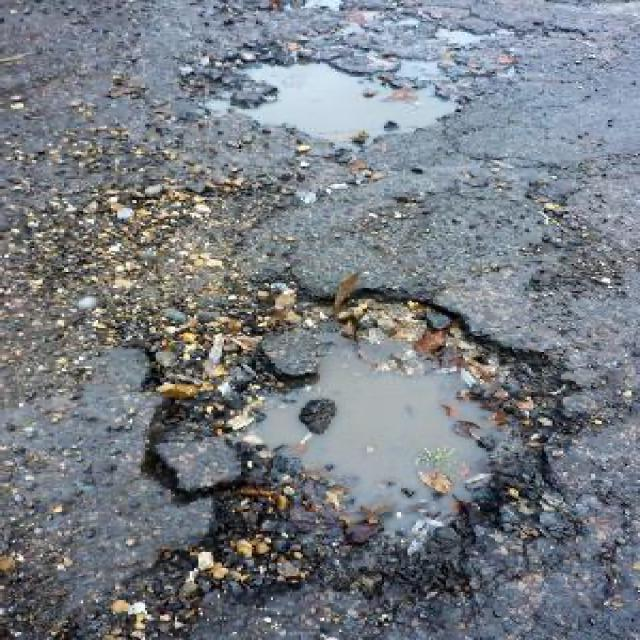pothole: (115, 292, 587, 618), (179, 47, 472, 148)
